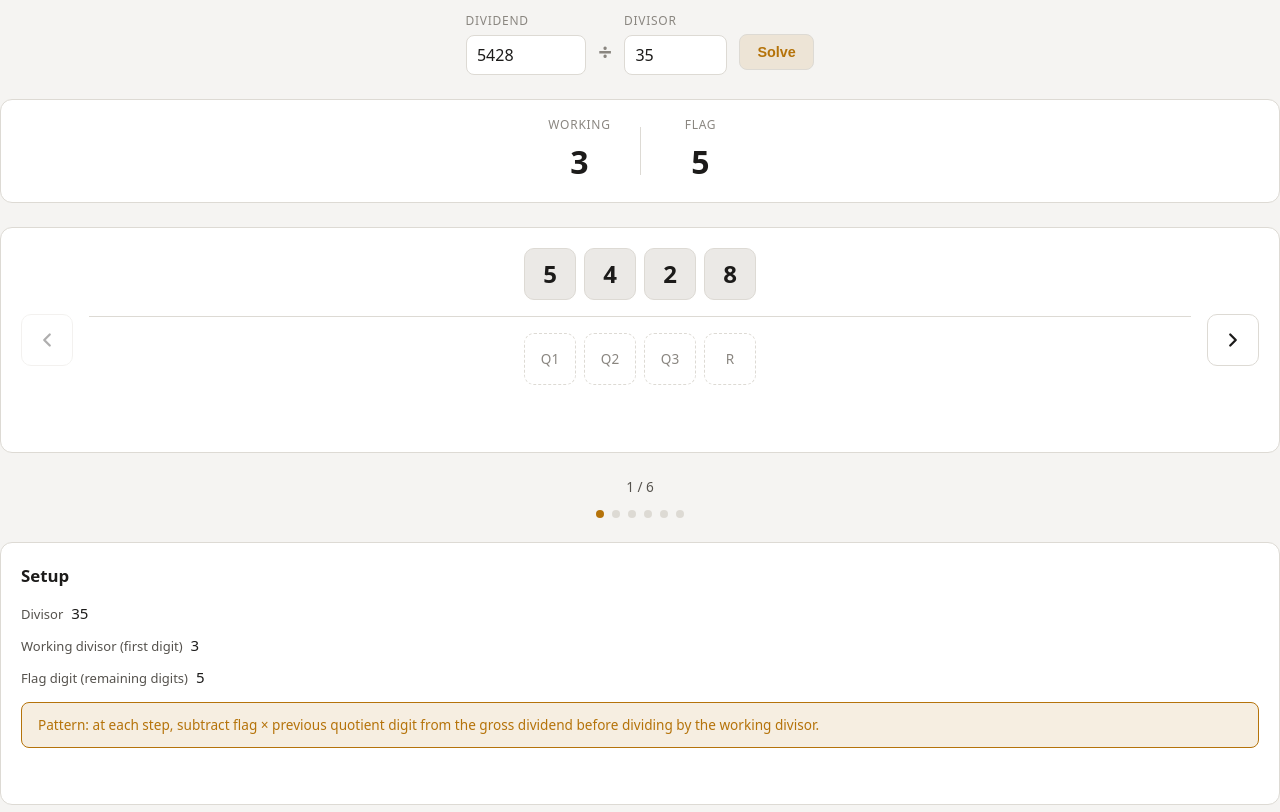
DhvajankaPage › disables back at the first step and disables next at the last step
The image size is (1280, 812).
Check: the button named "Previous step" is disabled, box [21,314,73,366]
Click the button named "Next step" at (1233, 340), box [1207,314,1259,366]
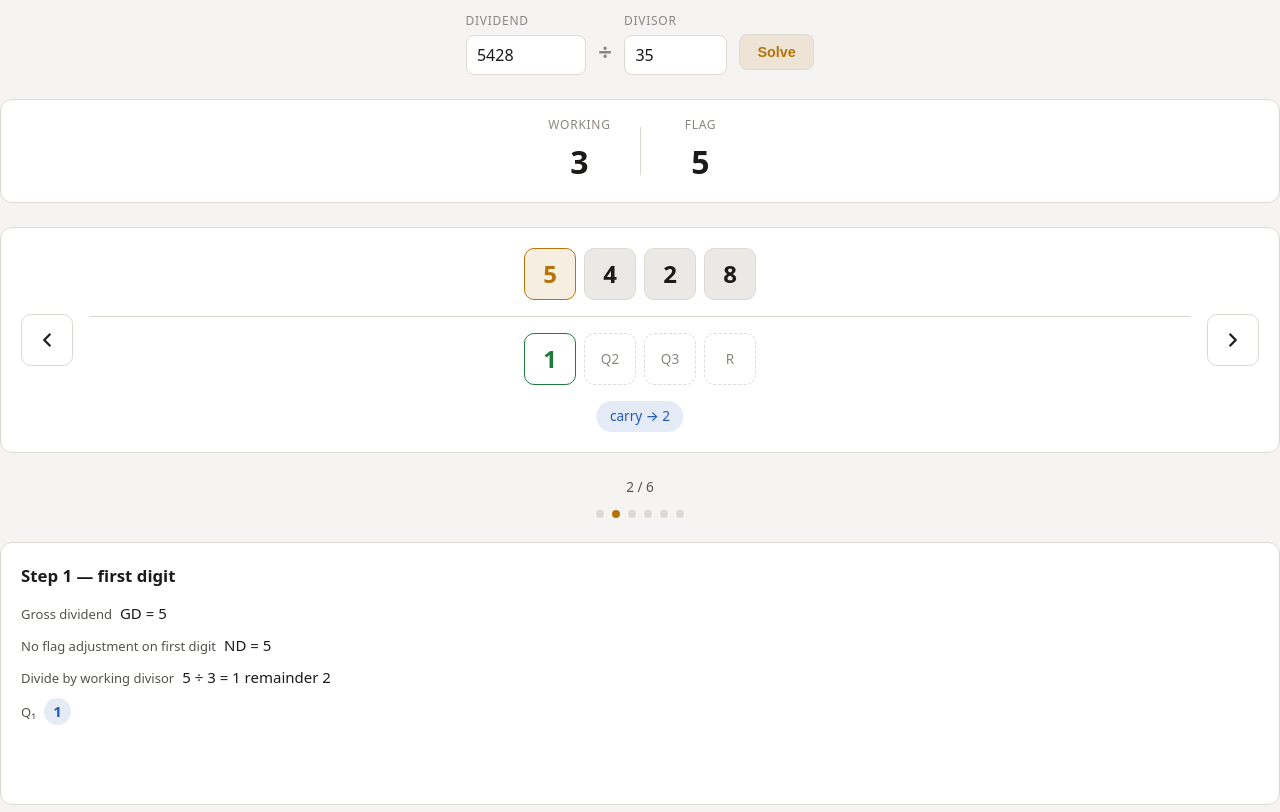
Click the button named "Next step" at (1233, 340), box [1207,314,1259,366]
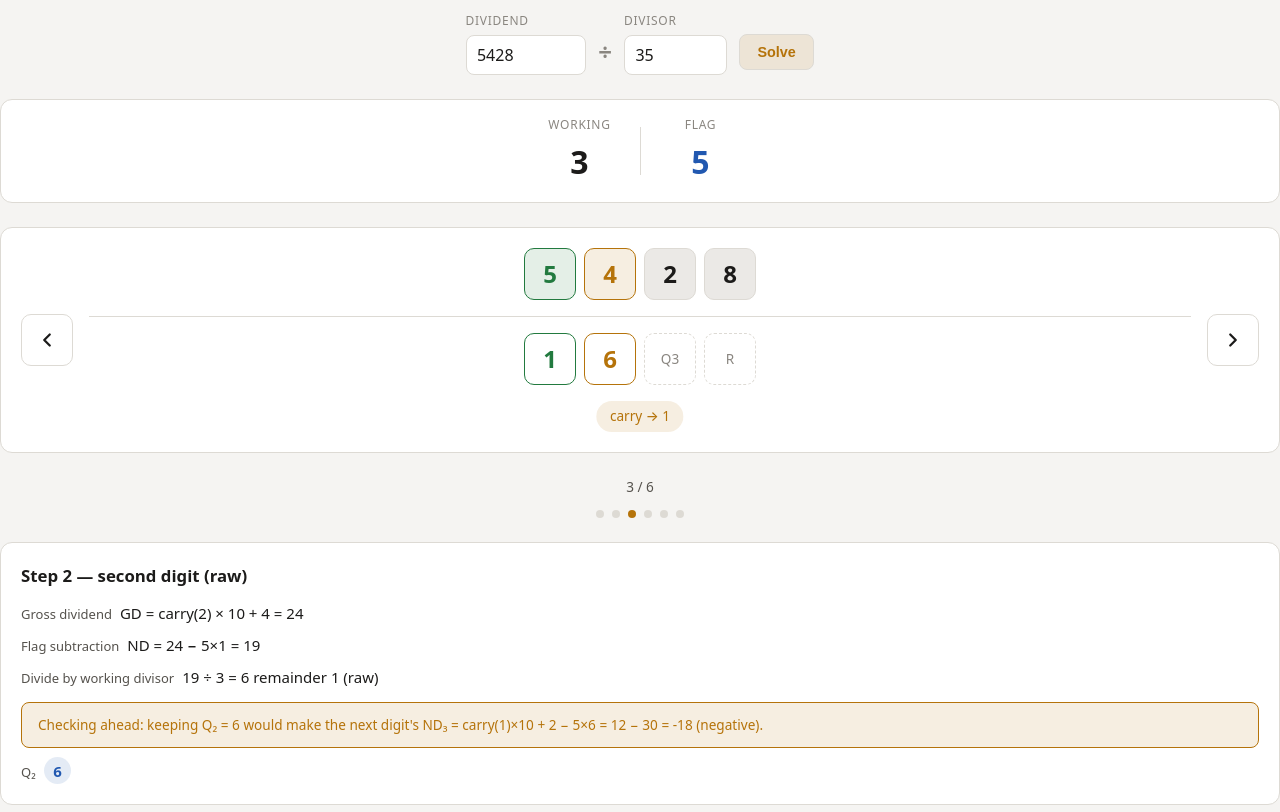
Click the button named "Next step" at (1233, 340), box [1207,314,1259,366]
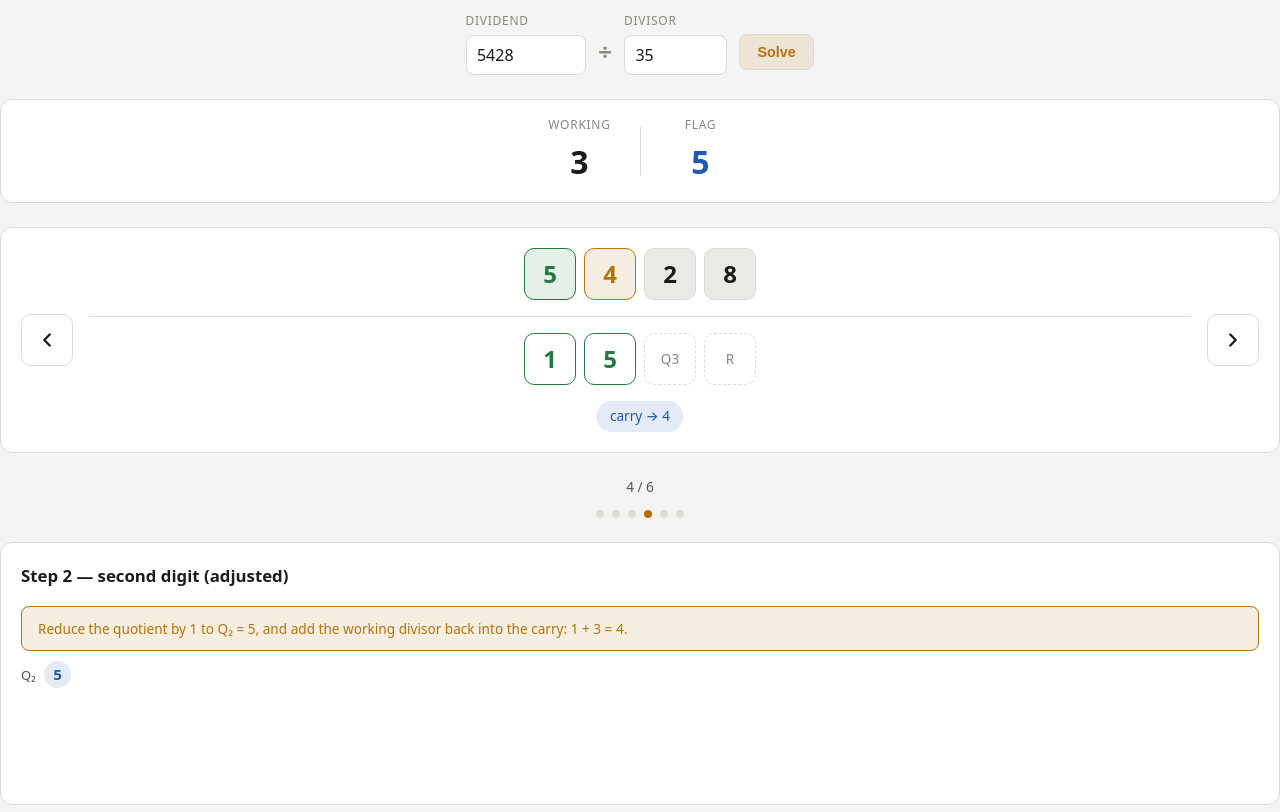
Click the button named "Next step" at (1233, 340), box [1207,314,1259,366]
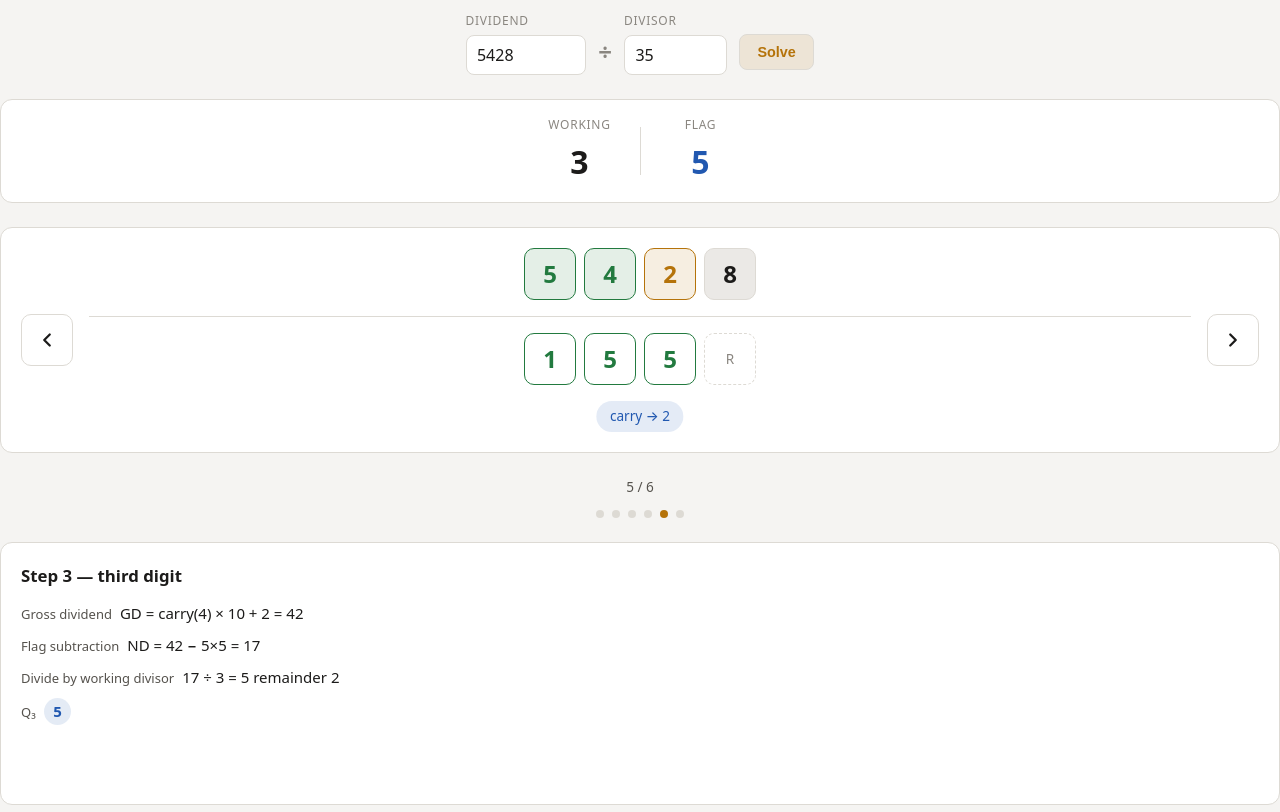
Click the button named "Next step" at (1233, 340), box [1207,314,1259,366]
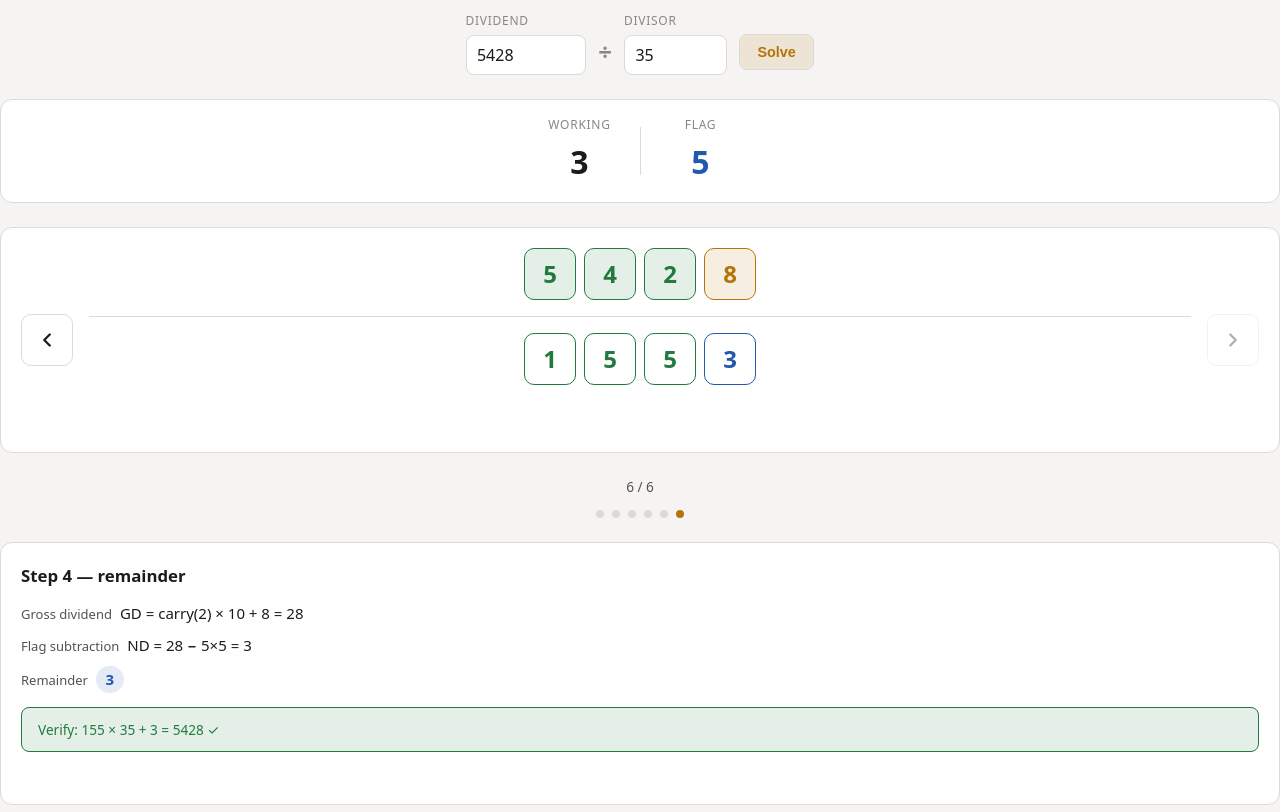
Check: the button named "Next step" is disabled, box [1207,314,1259,366]
